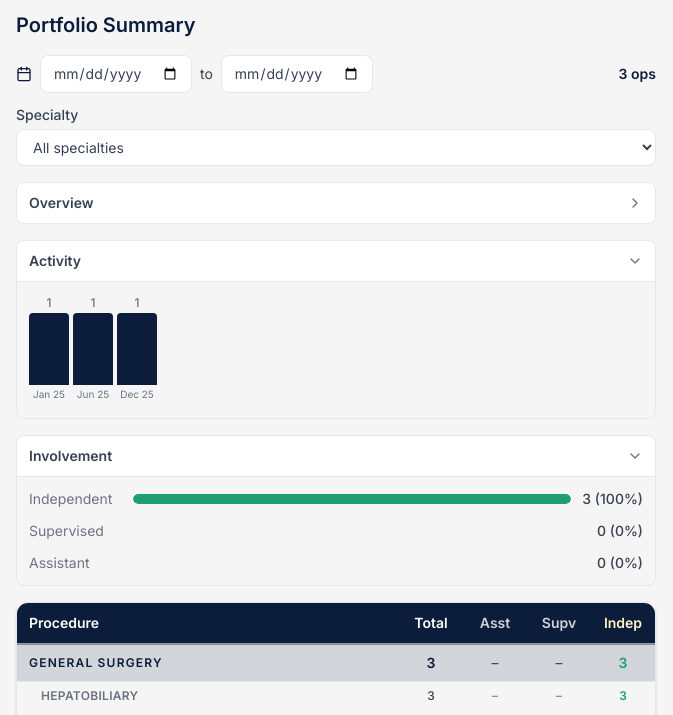
Test case: Portfolio › filters by date range
Expected: the text "3 ops" is shown, top-left (619, 64), bottom-right (656, 84)
In the 1st date field named "From date": (116, 74) top-left (40, 55), bottom-right (192, 93), type "2025-06-01"
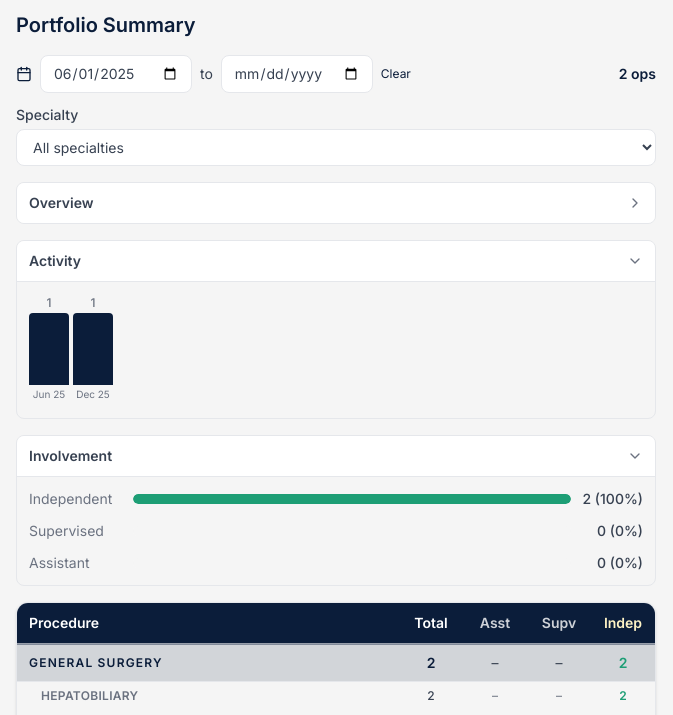
Now the text "2 ops" is shown, box top-left (619, 64), bottom-right (656, 84)
